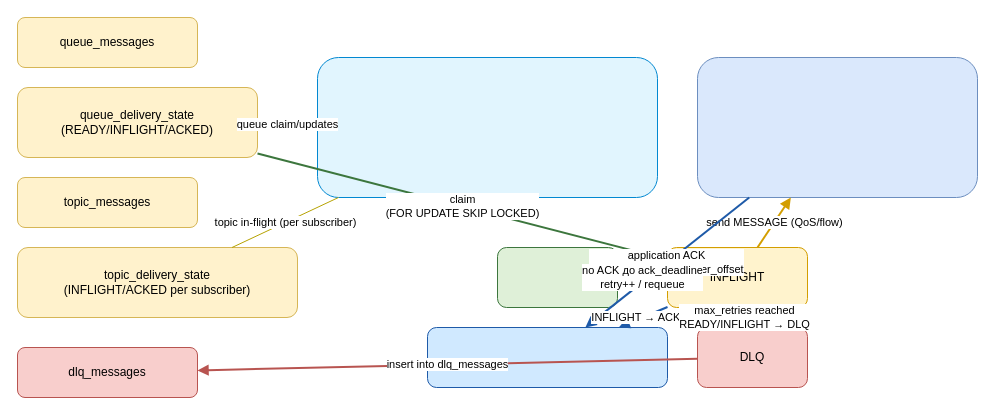
Some shapes in this 995 by 415 pixel diagram are drawn without their labels. Each missing label, with the centre of its shape:
ACKED / offset advanced: (x=547, y=357)
Delivery/Retry worker 1) claim READY 2) send MESSAGE 3) check ack_deadline: (x=487, y=127)
READY: (x=557, y=277)
Subscriber side handles payload > calls application ACK (or does not ACK): (x=837, y=127)
